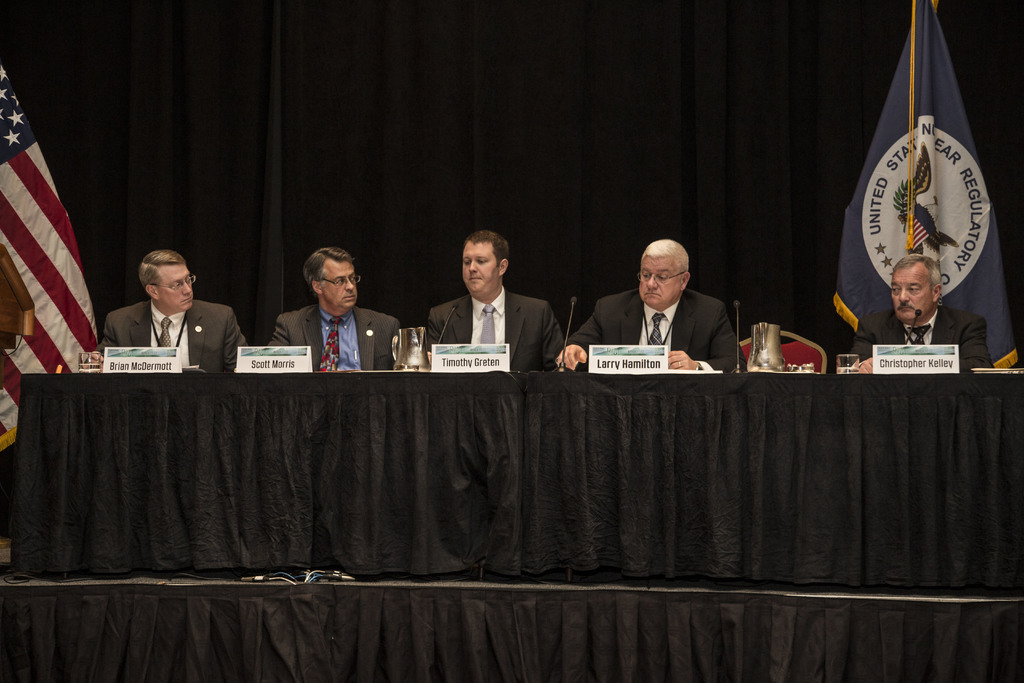Person: (556, 239, 747, 370), (95, 248, 248, 373), (429, 231, 564, 369), (267, 248, 402, 370), (853, 253, 993, 369)
